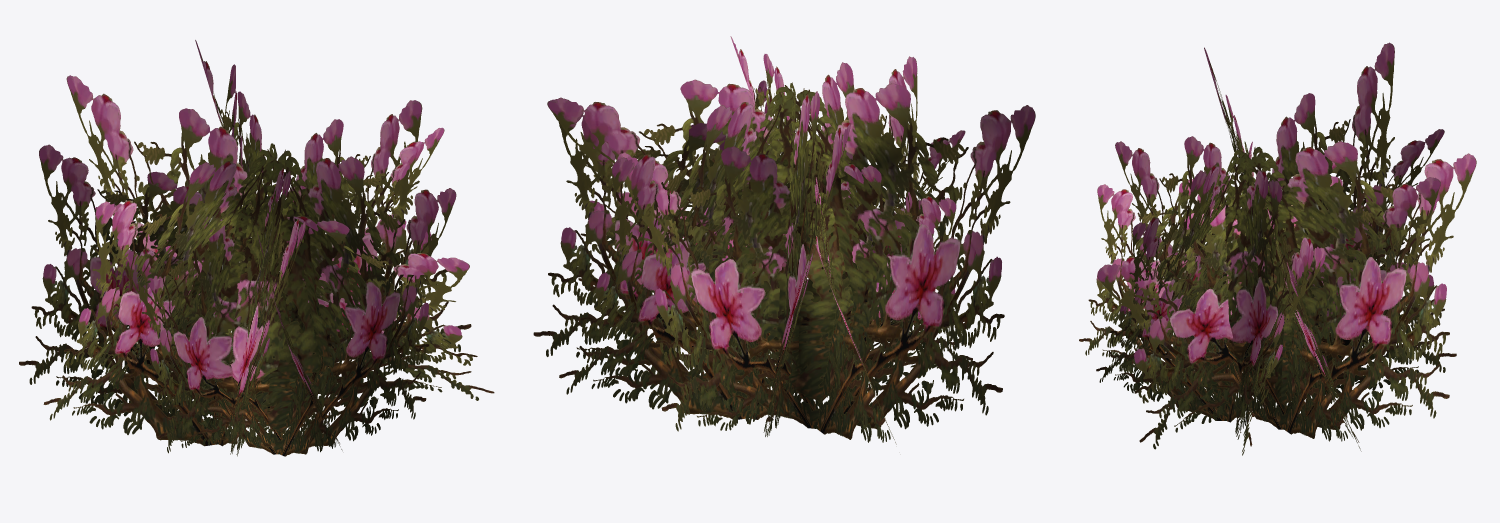
File: bush_magebloom01.obj
3 views of the same model, side by side, from view 1: azimuth 30°, elevation 25°; view 2: azimuth 150°, elevation 25°; view 3: azimuth 270°, elevation 25° (orthographic). The views are drawn at different scales.
Visible parts, largest first — view 1: BUSH_MAGEBLOOM010; view 2: BUSH_MAGEBLOOM010; view 3: BUSH_MAGEBLOOM010.
Part boxes in pixels (left/top/right/bottom): BUSH_MAGEBLOOM010: left=19, top=40, right=494, bottom=456; BUSH_MAGEBLOOM010: left=533, top=36, right=1035, bottom=444; BUSH_MAGEBLOOM010: left=1079, top=42, right=1476, bottom=455.
Bounding box in the file's own units: 5.32 × 4.5 × 4.91.
1 material, 1 textured.
